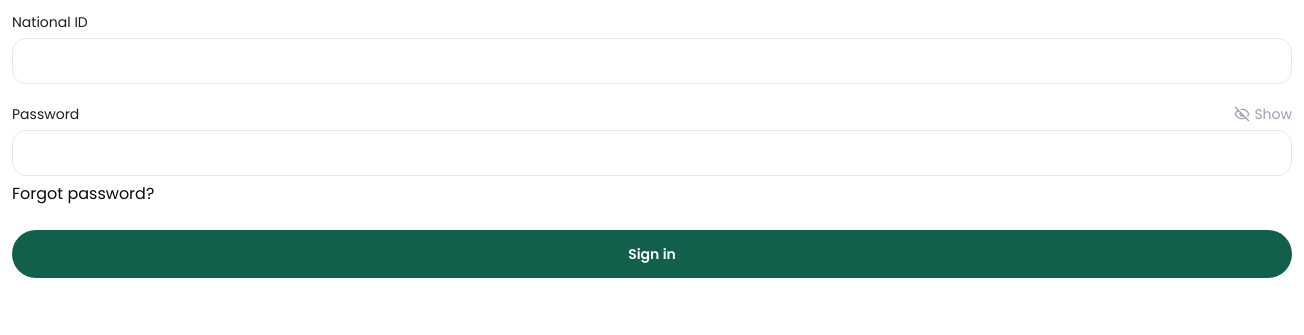
it: PatientSignInForm › surfaces the backend message for non-401 ApiErrors
Type "12345678901234" into the field labelled "National ID" at coordinates (652, 61), box [12,38,1292,84]
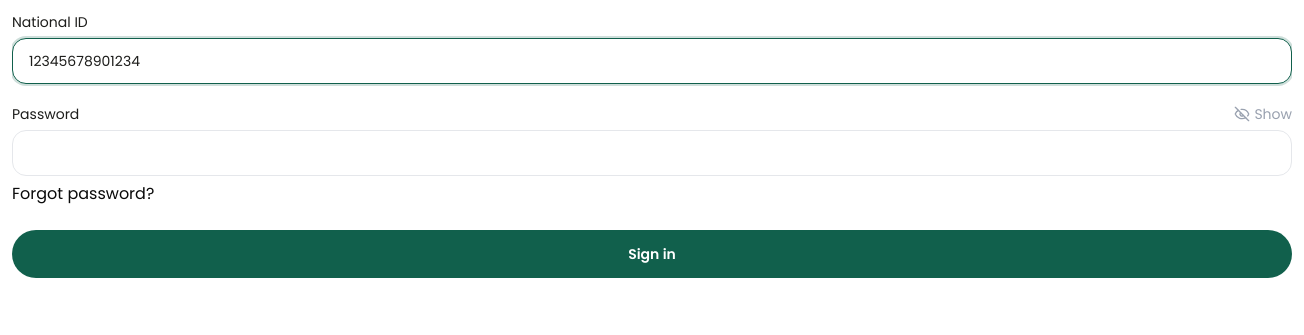
Type "Abcdef1!" into the password field labelled "Password" at coordinates (652, 153), box [12,130,1292,176]
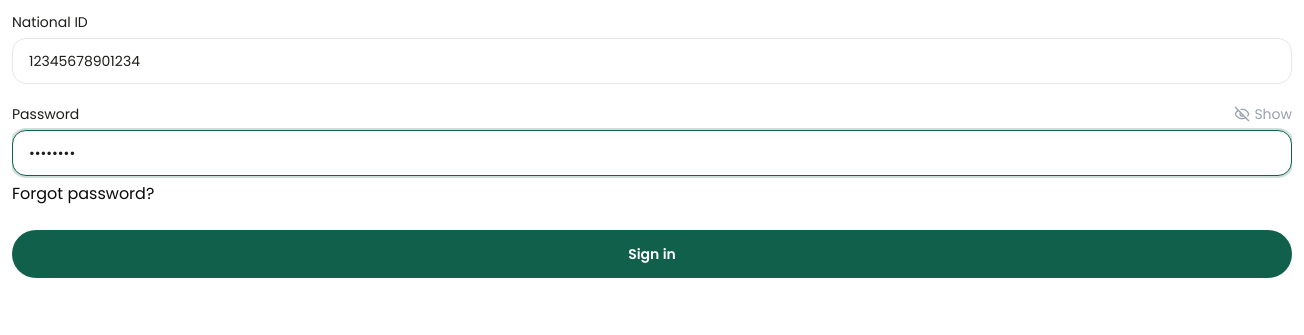
Click the button "Sign in" at coordinates (652, 254), box [12,230,1292,278]
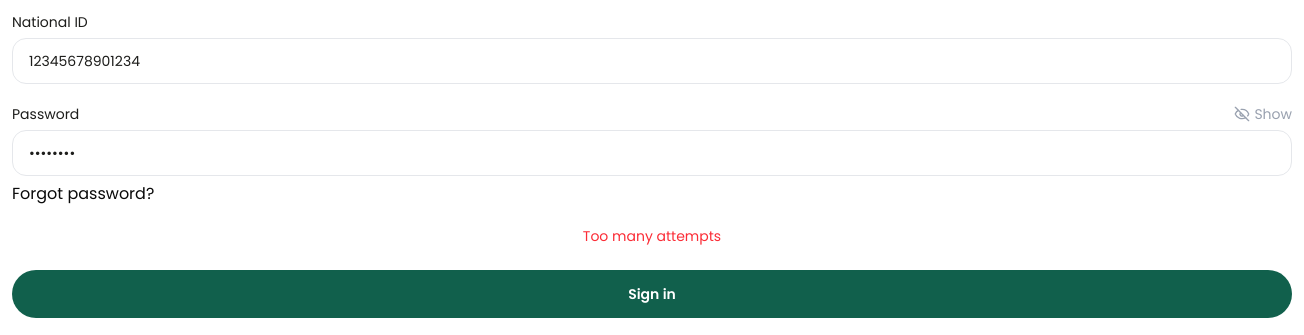
Expected: the text "Too many attempts" is shown, [583,226,721,246]
